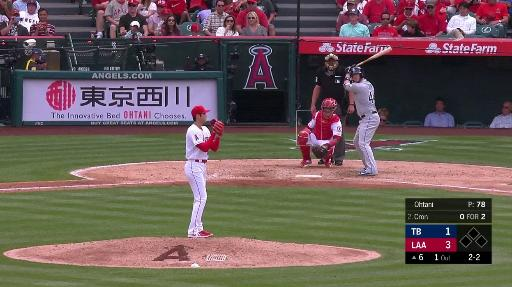pitcher: (185, 105, 225, 238)
